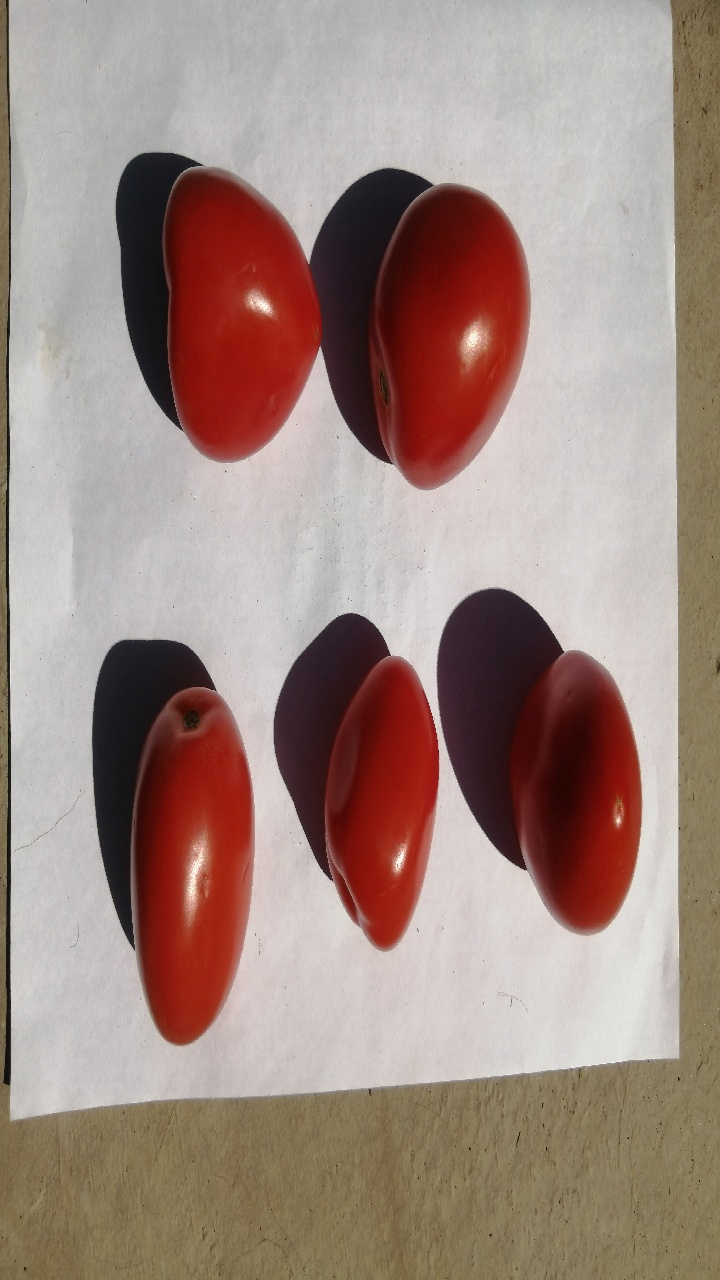tomateRojo: (340, 160, 575, 502), (278, 626, 477, 977), (112, 659, 281, 1057), (144, 152, 334, 469), (477, 628, 663, 949)
